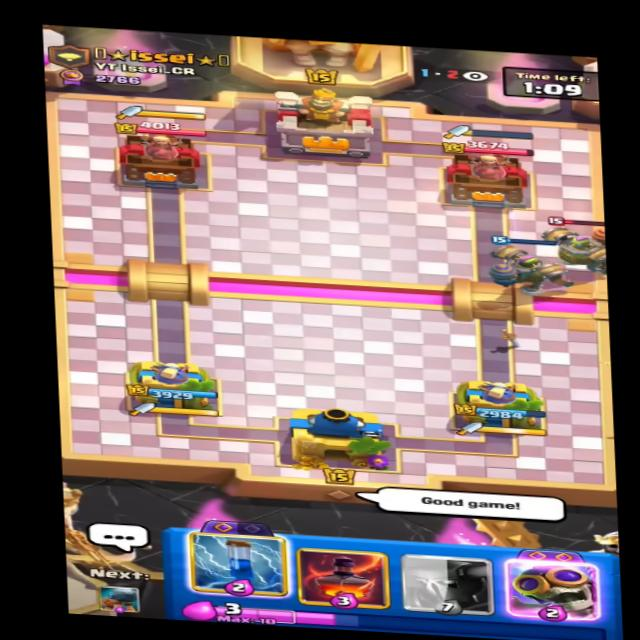goblin-machine: (530, 217, 615, 278)
